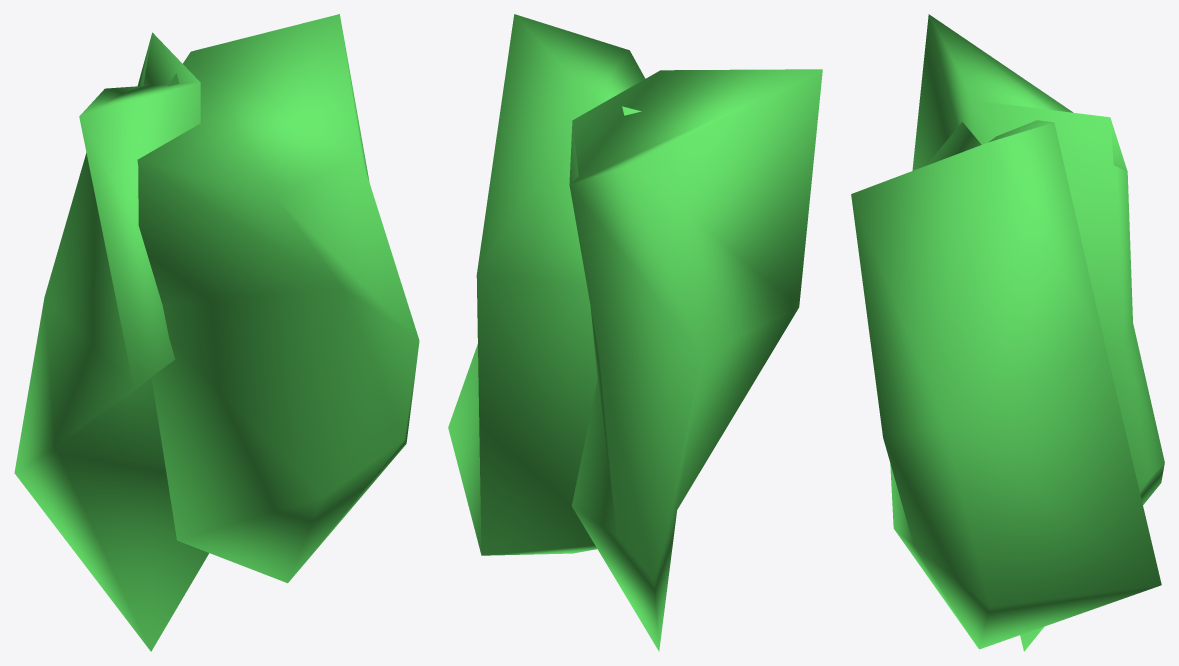
Rendered from willowSeedRotten.glb.
3 renders of one model, left to right at view 1: azimuth 30°, elevation 25°; view 2: azimuth 150°, elevation 25°; view 3: azimuth 270°, elevation 25°, orthographic. The views are drawn at different scales.
Visible parts, largest first — view 1: Cube; view 2: Cube; view 3: Cube.
Part boxes in pixels (x1,y1,x2,y2): Cube: (14,14,419,651); Cube: (448,14,822,651); Cube: (851,14,1164,651).
Bounding box in the file's own units: 0.0703 × 0.1142 × 0.0551.
